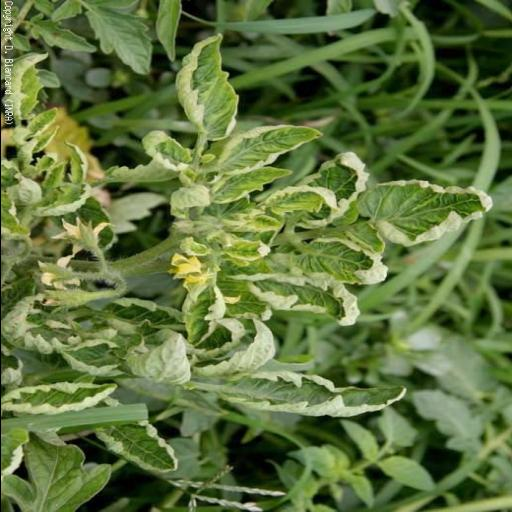disease_tomato: (356, 176, 498, 247), (173, 32, 244, 138), (243, 264, 359, 326), (212, 118, 324, 182), (285, 234, 395, 288), (0, 373, 115, 416), (184, 277, 224, 349), (265, 184, 341, 216), (212, 236, 268, 262)
